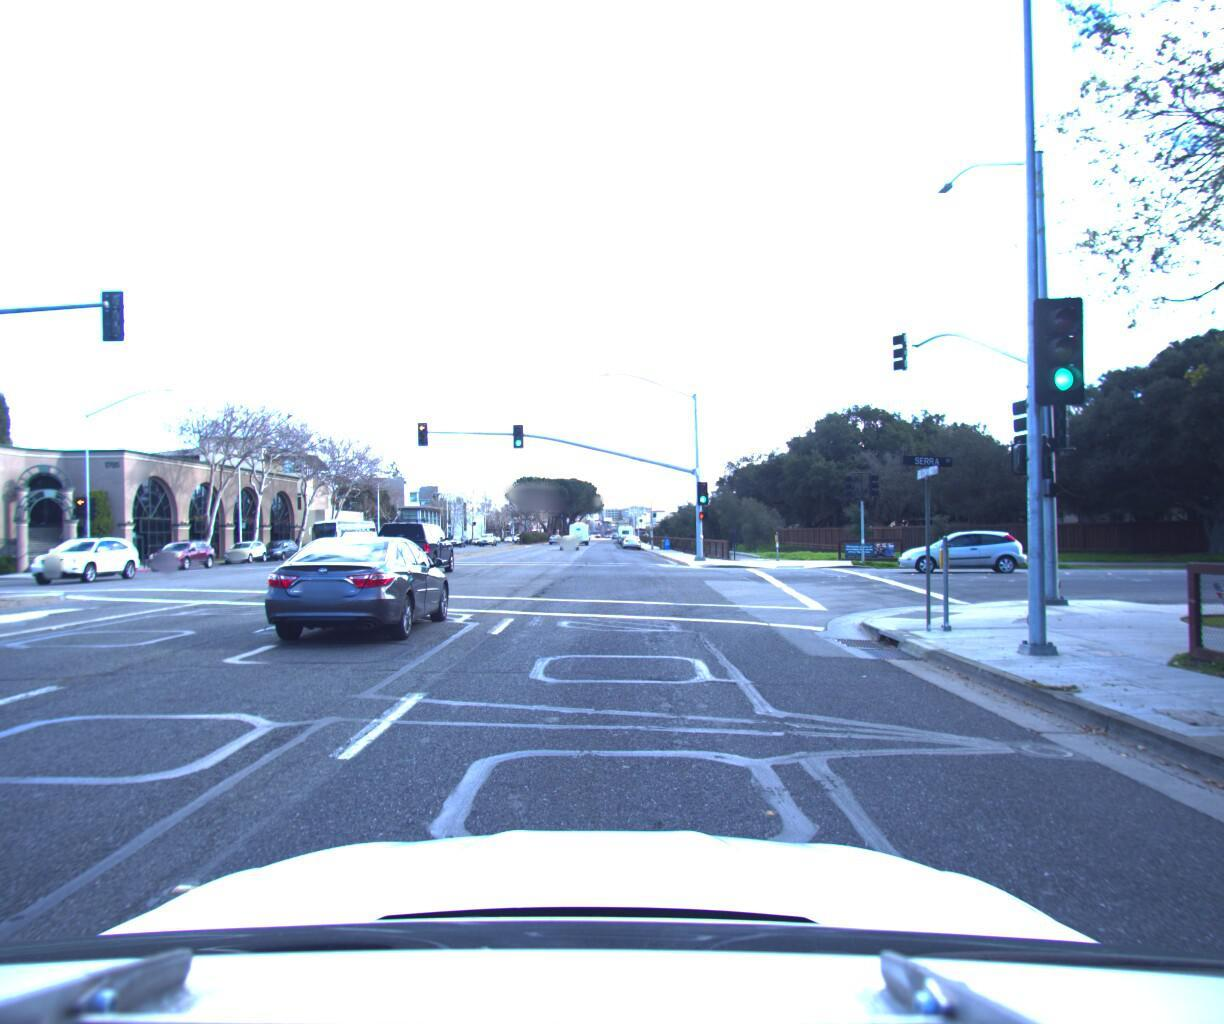bus: (306, 509, 382, 552)
car: (249, 521, 458, 650), (20, 530, 151, 581), (890, 522, 1025, 567), (375, 513, 460, 573), (142, 529, 221, 565), (221, 533, 272, 558), (259, 530, 303, 553), (562, 527, 582, 544), (622, 528, 639, 541)
